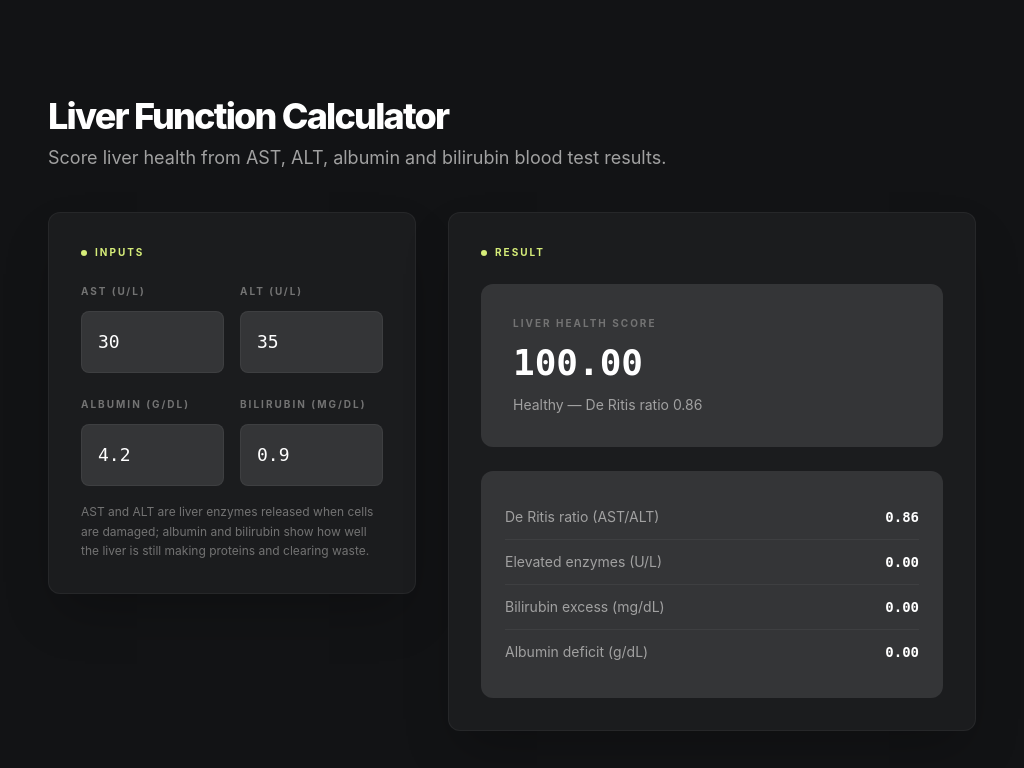
Test case: LiverFunctionCalculator › drops the score when AST becomes elevated
Replace the text in the number field labelled "AST (U/L)" with "100": [152, 342] box [81,311,224,373]
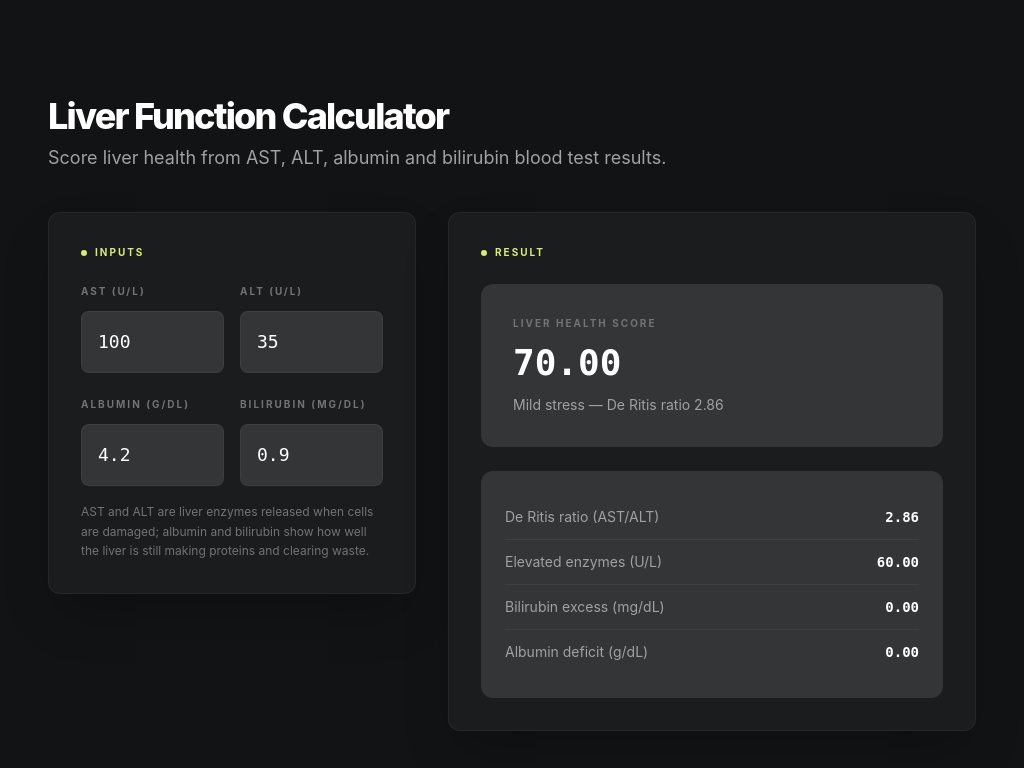
Check: the text "60.00" is shown, box [877,552,919,572]
Check: the text "2.86" is shown, box [885,507,919,527]
